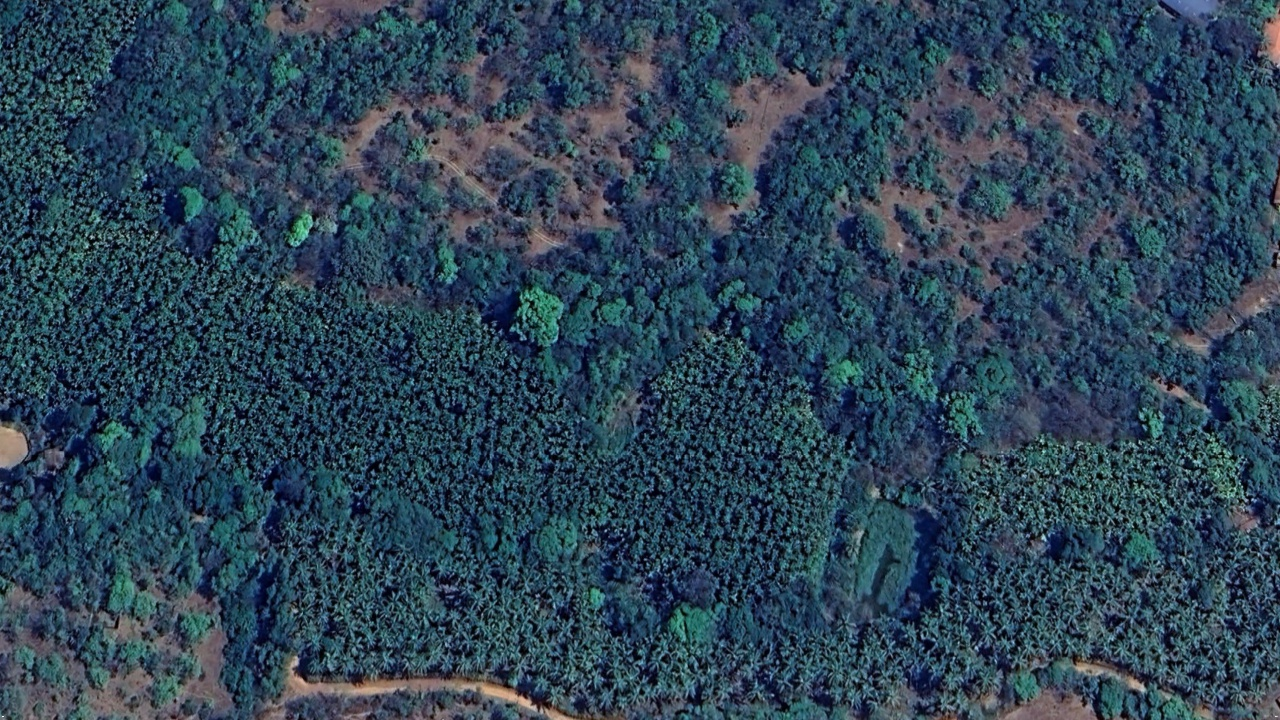arecanut: (6, 185, 840, 570), (984, 438, 1248, 520)
